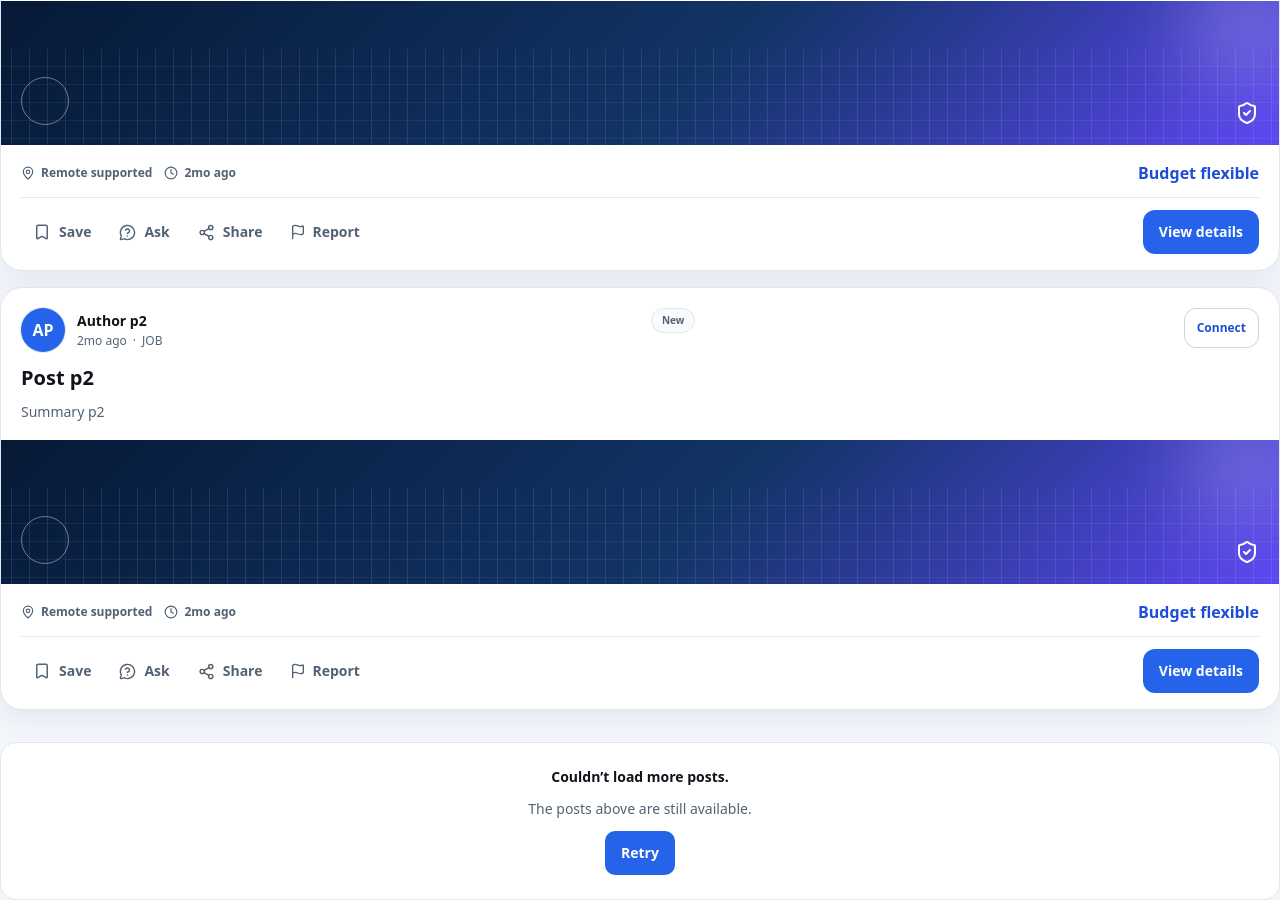
Scenario: home feed client › recovers the failed cursor on retry without duplicating posts
(page scrolled)
Expected: the message "Couldn’t load more posts. The posts above are still available. Retry" is shown, [0,742,1279,899]
Click the button "Retry".
click(640, 853)  # box [605,831,675,875]
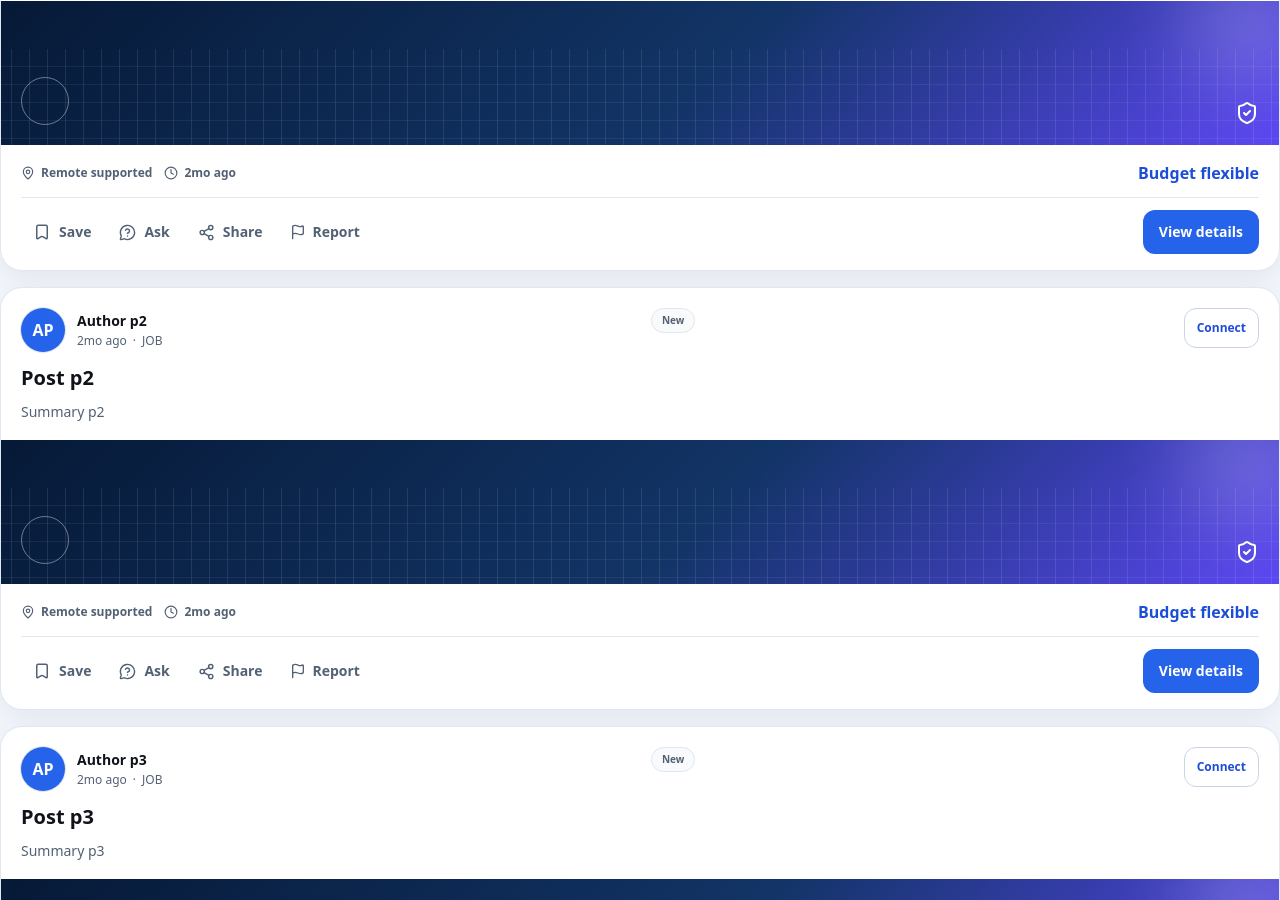
Expected: the heading "Post p3" is shown, [21,803,94,830]
